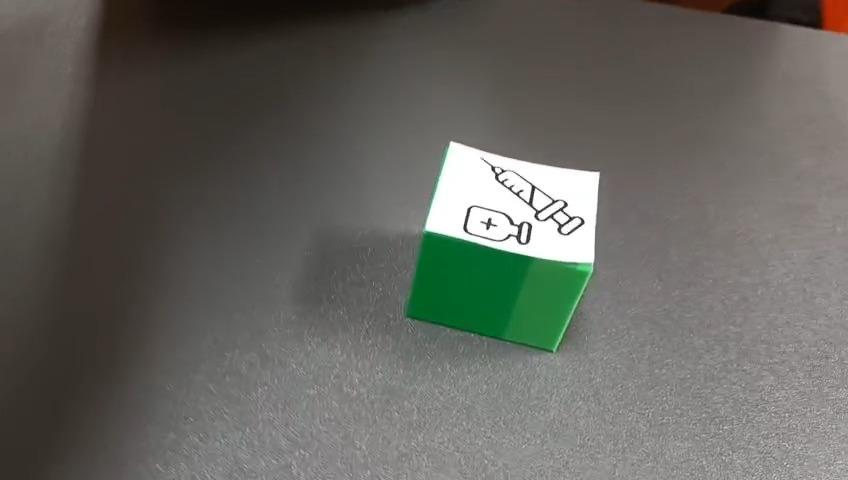antiseptic cream: (403, 139, 601, 353)
